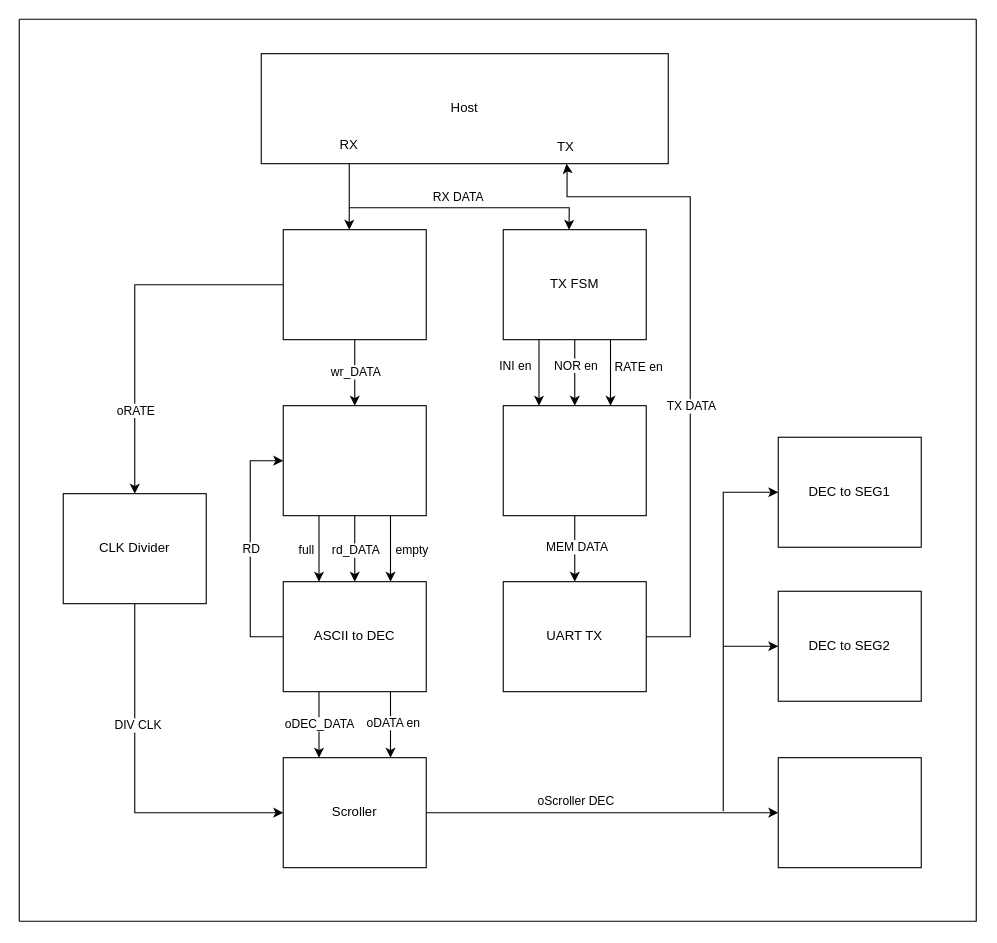
The diagram is 997 pixels wide and 943 high, and some of its shapes have lost their labels. Each missing label, with the centre of its shape:
"DEC to SEG3" goes at point 849,812.
"FIFO" goes at point 354,460.
"Receive FSM" goes at point 354,284.
"TX DATA MEM" goes at point 574,460.
